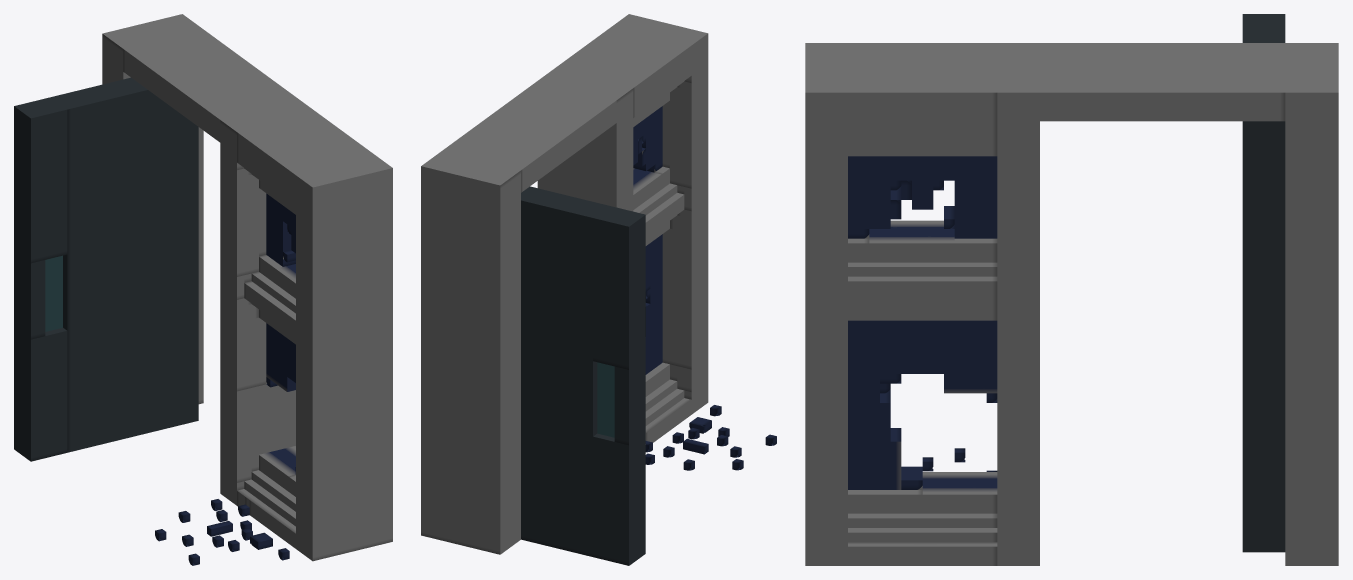
File: dzwio).dae
The picture shows the model from 3 angles, left to right: view 1: azimuth 30°, elevation 25°; view 2: azimuth 150°, elevation 25°; view 3: azimuth 270°, elevation 25°; orthographic projection. The views are drawn at different scales.
Parts seen in each view (by area): view 1: Content; view 2: Content; view 3: Content.
Boxes of the visible parts, x1,y1,x2,y2 form: Content: [14, 14, 392, 565]; Content: [421, 14, 776, 565]; Content: [805, 14, 1338, 565].
Size of the model in its own units: 26 by 49 by 50.
Materials: 1 (1 with a texture image).
